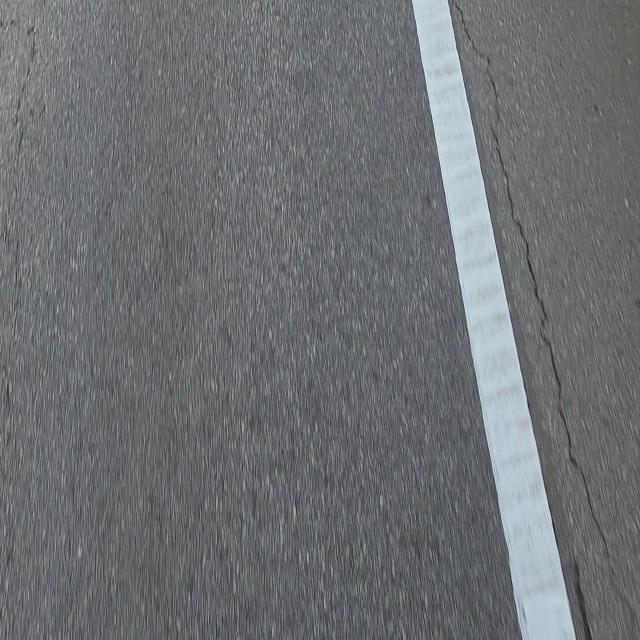Retak-Memanjang: (450, 1, 610, 557), (8, 29, 36, 128)
